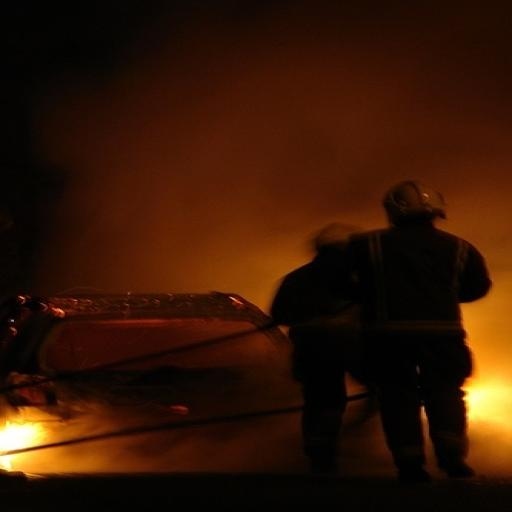fire: (466, 379, 511, 475), (466, 382, 511, 470), (0, 421, 44, 470), (466, 383, 511, 428), (465, 389, 488, 418)
smoke: (36, 2, 511, 382)
